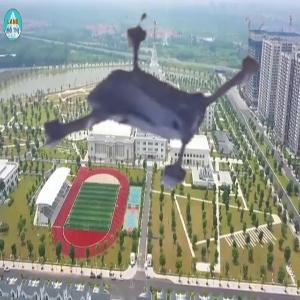drone: (1, 3, 251, 253)
